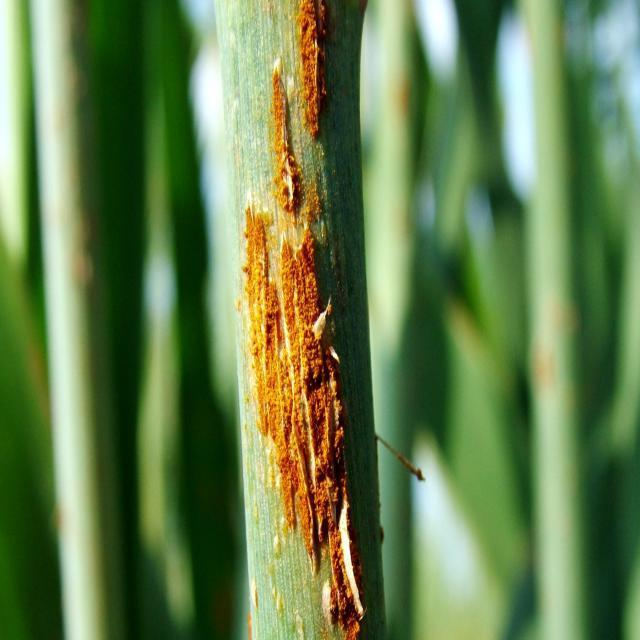Stem_Rust: (225, 3, 400, 640)
